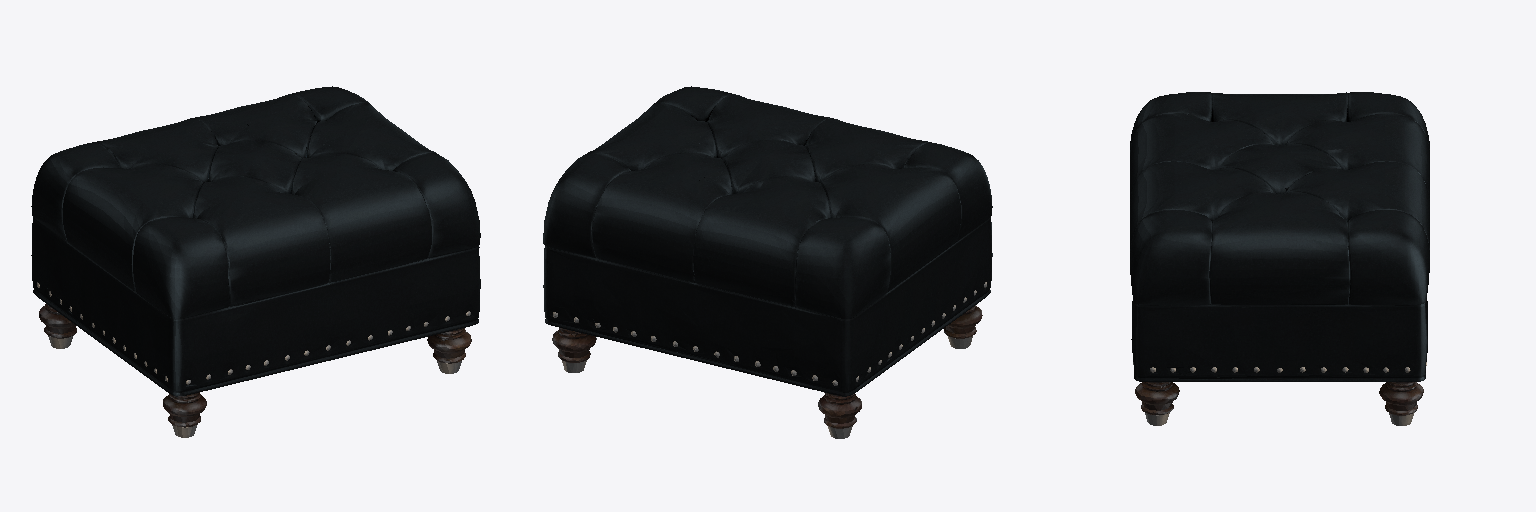
3 renders of one model, left to right at view 1: azimuth 30°, elevation 25°; view 2: azimuth 150°, elevation 25°; view 3: azimuth 270°, elevation 25°, orthographic.
Parts seen in each view (by area): view 1: solid_002, solid_003, solid_001; view 2: solid_002, solid_003, solid_001; view 3: solid_002, solid_003, solid_001.
Boxes of the visible parts, x1,y1,x2,y2 form: solid_002: [31, 86, 480, 396]; solid_003: [39, 304, 471, 427]; solid_001: [37, 282, 470, 437]; solid_002: [543, 86, 992, 396]; solid_003: [552, 305, 982, 428]; solid_001: [553, 282, 986, 438]; solid_002: [1130, 92, 1429, 381]; solid_003: [1135, 382, 1423, 415]; solid_001: [1133, 362, 1426, 425].
Bounding box in the file's own units: 1.8 × 1.1 × 1.48.
1 materials, 1 textured.